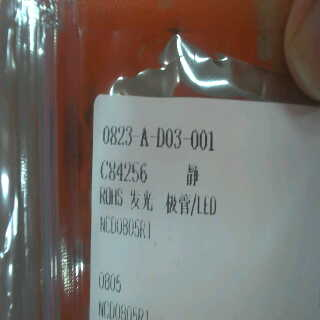LED: (123, 186, 228, 221)
